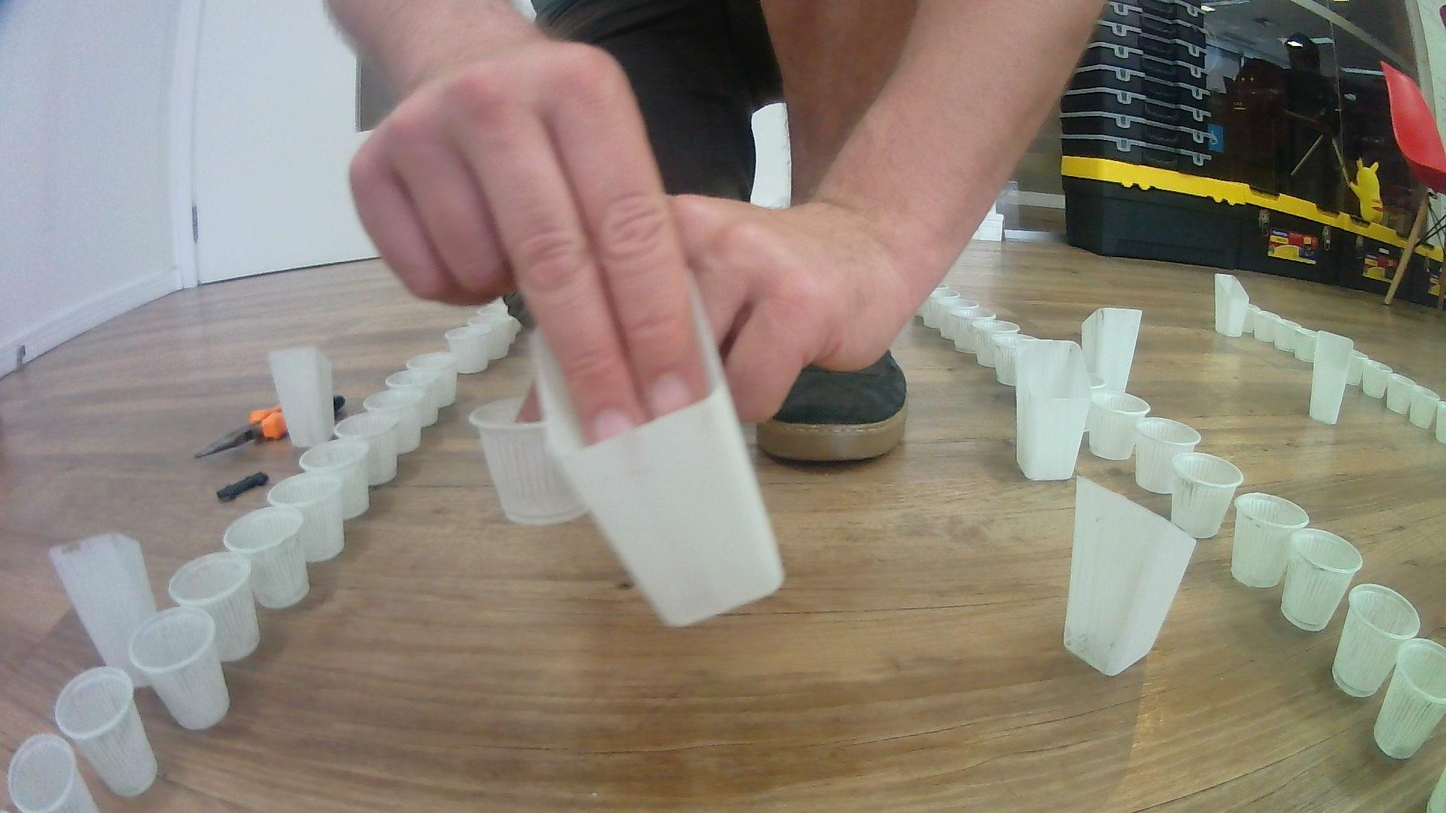erva_daninha: (529, 266, 788, 630), (1063, 474, 1198, 678), (48, 533, 162, 688), (1014, 336, 1094, 483), (267, 345, 336, 449), (1080, 306, 1142, 397), (1309, 330, 1355, 426), (1213, 273, 1250, 337)
planta: (469, 396, 592, 527), (53, 665, 159, 799), (127, 606, 232, 731), (1330, 583, 1425, 700), (166, 551, 261, 663), (224, 507, 313, 610), (1279, 527, 1365, 633), (1373, 638, 1446, 760), (1230, 492, 1311, 589), (6, 733, 97, 813), (267, 472, 346, 563), (1170, 452, 1246, 541), (298, 438, 371, 523), (1133, 416, 1203, 495), (334, 412, 400, 486), (1088, 392, 1154, 463), (362, 390, 423, 455), (385, 370, 440, 428), (407, 352, 458, 410), (991, 334, 1039, 387), (970, 321, 1020, 368), (444, 327, 490, 375), (469, 316, 514, 360), (952, 311, 997, 355), (933, 299, 978, 342), (919, 290, 962, 329), (1407, 386, 1441, 429), (1384, 373, 1414, 414), (1243, 306, 1276, 343), (913, 283, 948, 317), (1361, 361, 1390, 400), (1269, 316, 1300, 352), (480, 308, 517, 338), (1343, 349, 1370, 389), (1290, 326, 1319, 361), (1433, 400, 1446, 445)
